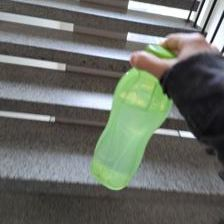bottle: (92, 44, 176, 192)
